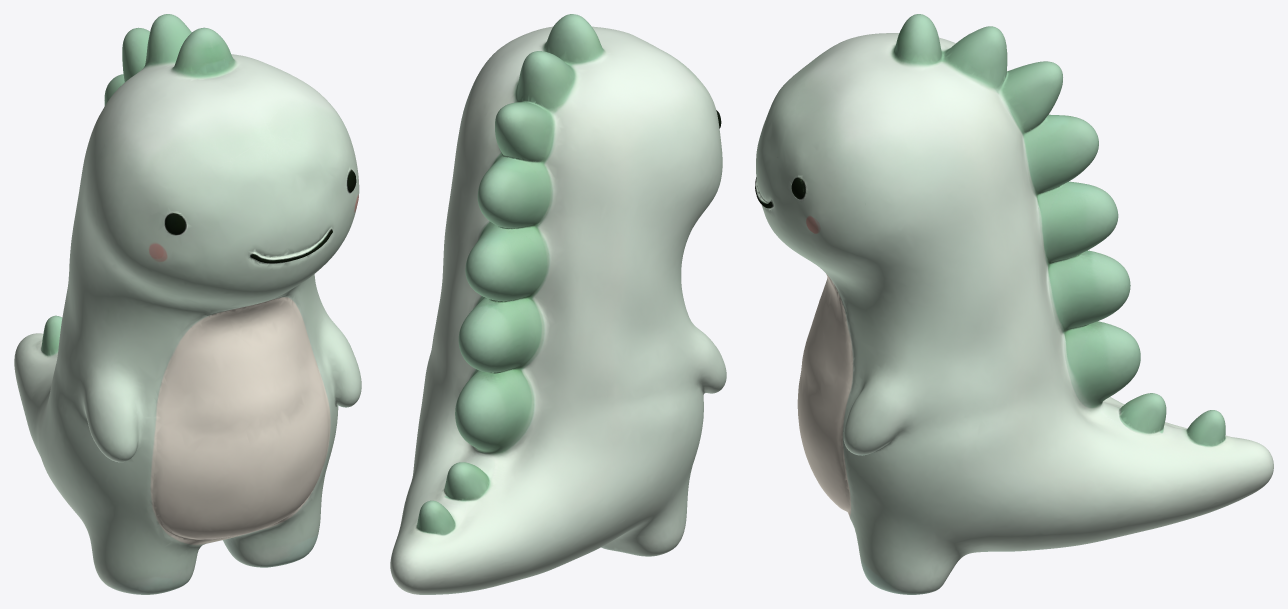
Rendered from Dino.glb.
The picture shows the model from 3 angles, left to right: view 1: azimuth 30°, elevation 25°; view 2: azimuth 150°, elevation 25°; view 3: azimuth 270°, elevation 25°; orthographic projection. The views are drawn at different scales.
Parts seen in each view (by area): view 1: Dino; view 2: Dino; view 3: Dino.
Part boxes in pixels (box(x1,y1,x2,y2)): Dino: box(14, 14, 361, 594); Dino: box(390, 14, 726, 594); Dino: box(755, 14, 1273, 594).
Size of the model in its own units: 0.3806 by 0.7397 by 0.6508.
1 material, 1 textured.
